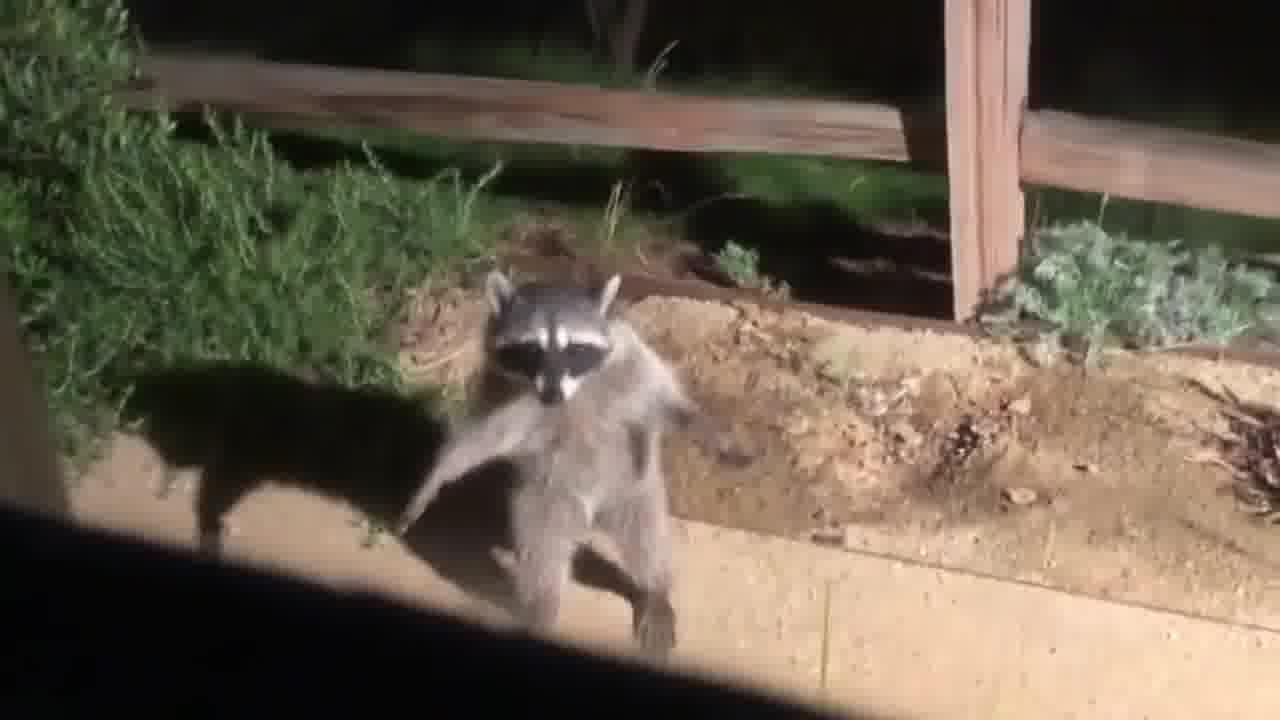raccoon: (399, 262, 743, 665)
